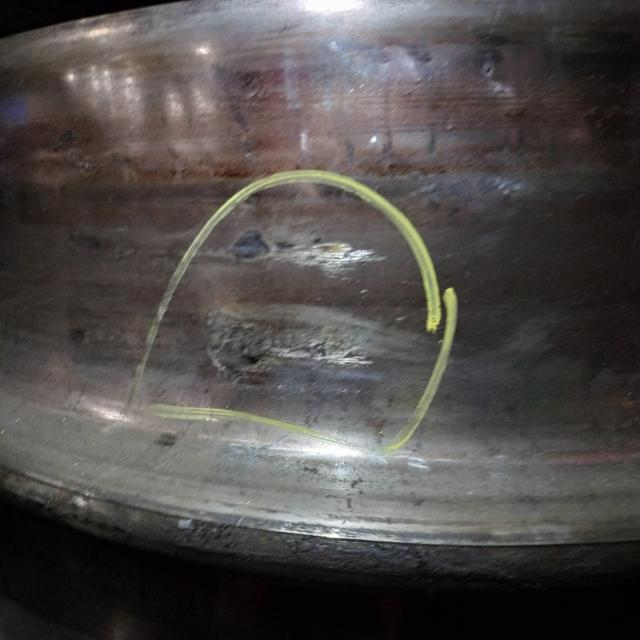Rollerpile: (188, 218, 401, 399)
